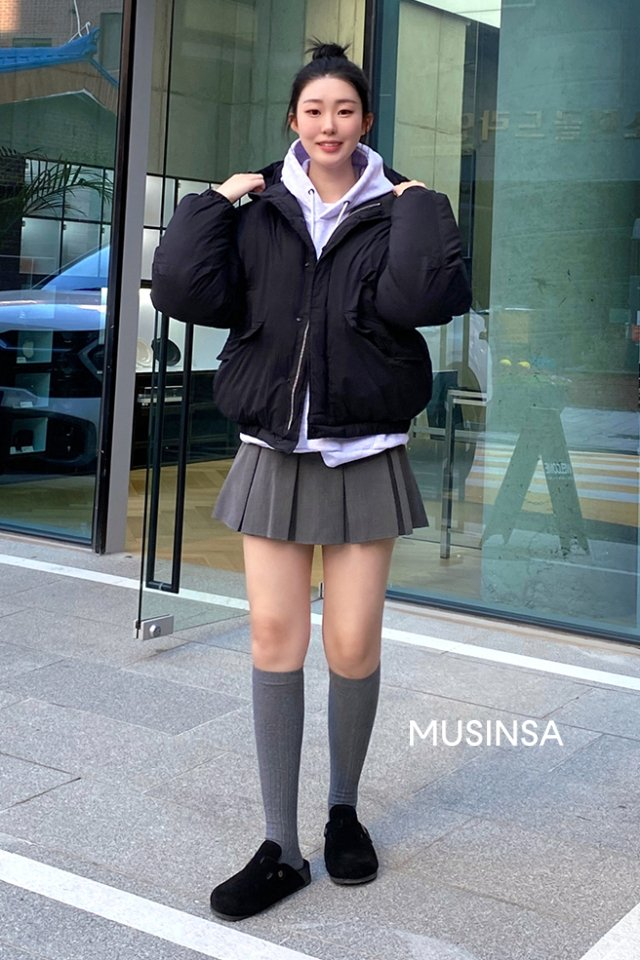Bubble jacket: (150, 159, 480, 449)
Sandal: (201, 804, 391, 914)
Skirt: (211, 433, 445, 550)
